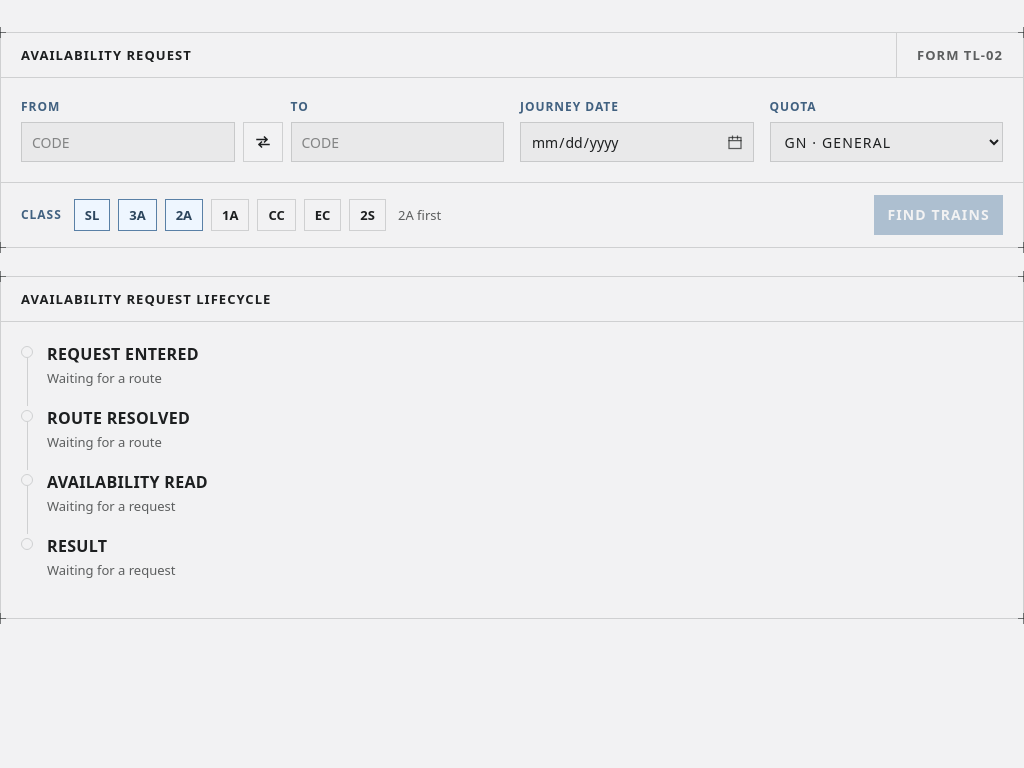
searching a route › swaps the two stations, so a return journey is not retyped
The image size is (1024, 768).
Type "SBC" into the dropdown labelled "From" at [128, 142], box left=21, top=122, right=234, bottom=162
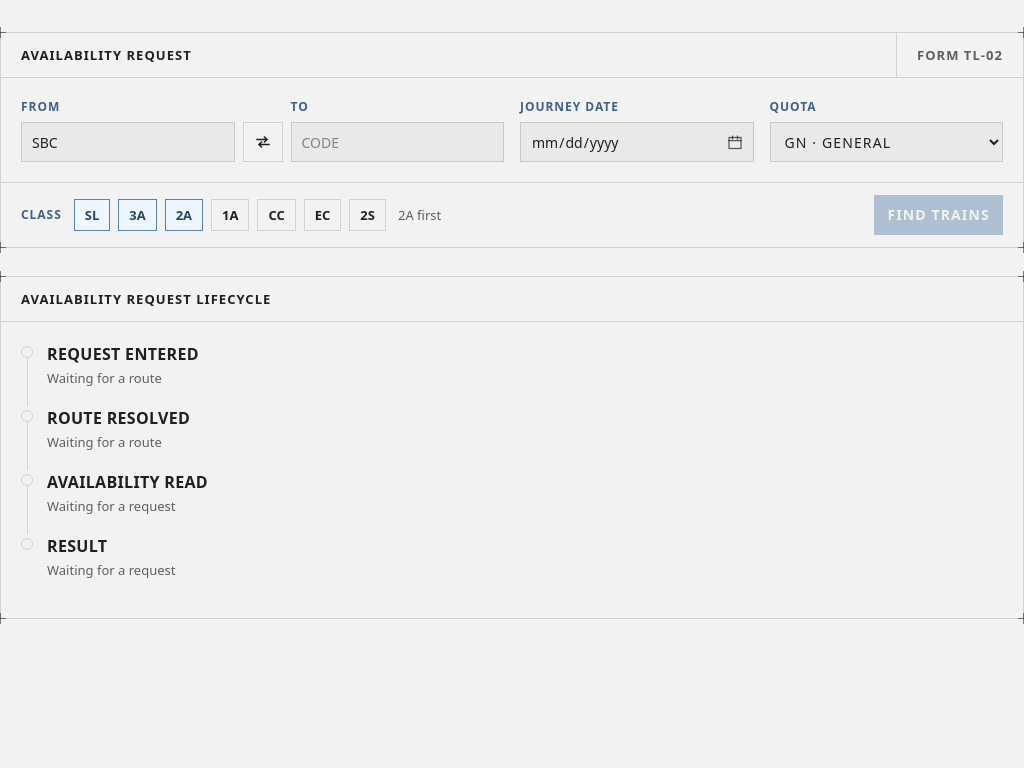
Type "NDLS" into the dropdown labelled "To" at [397, 142], box left=290, top=122, right=504, bottom=162
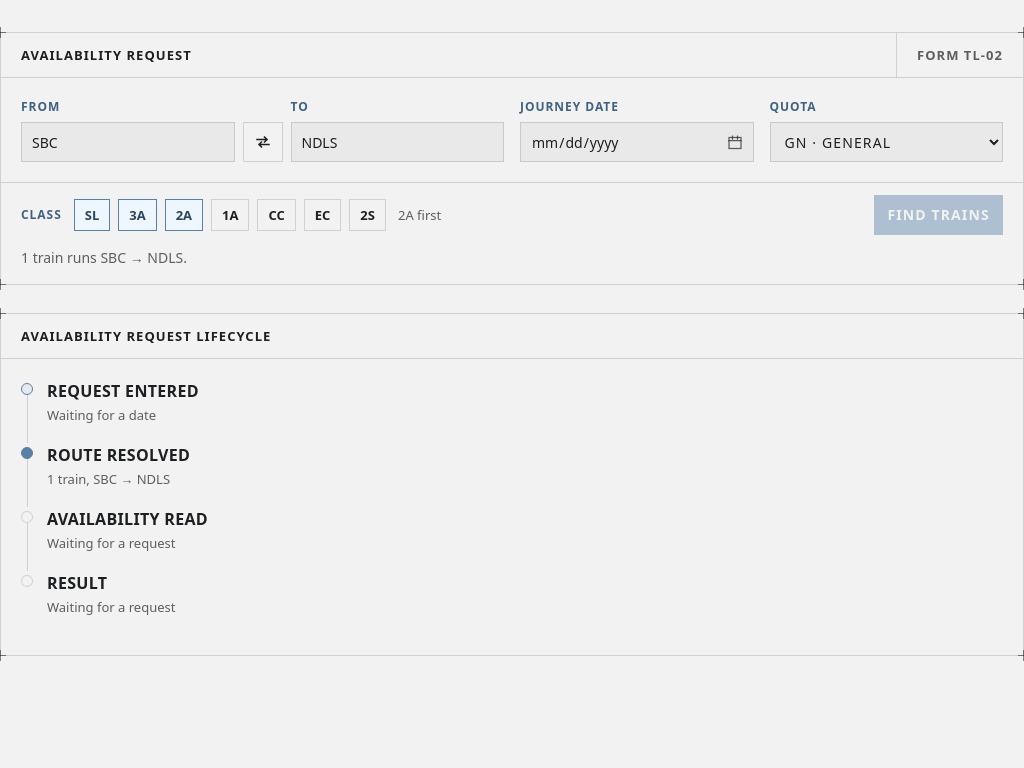
Check: the text "1 train runs SBC → NDLS." is shown, box left=21, top=248, right=187, bottom=267
Click the button named "Swap stations" at [262, 142], box left=242, top=122, right=282, bottom=162
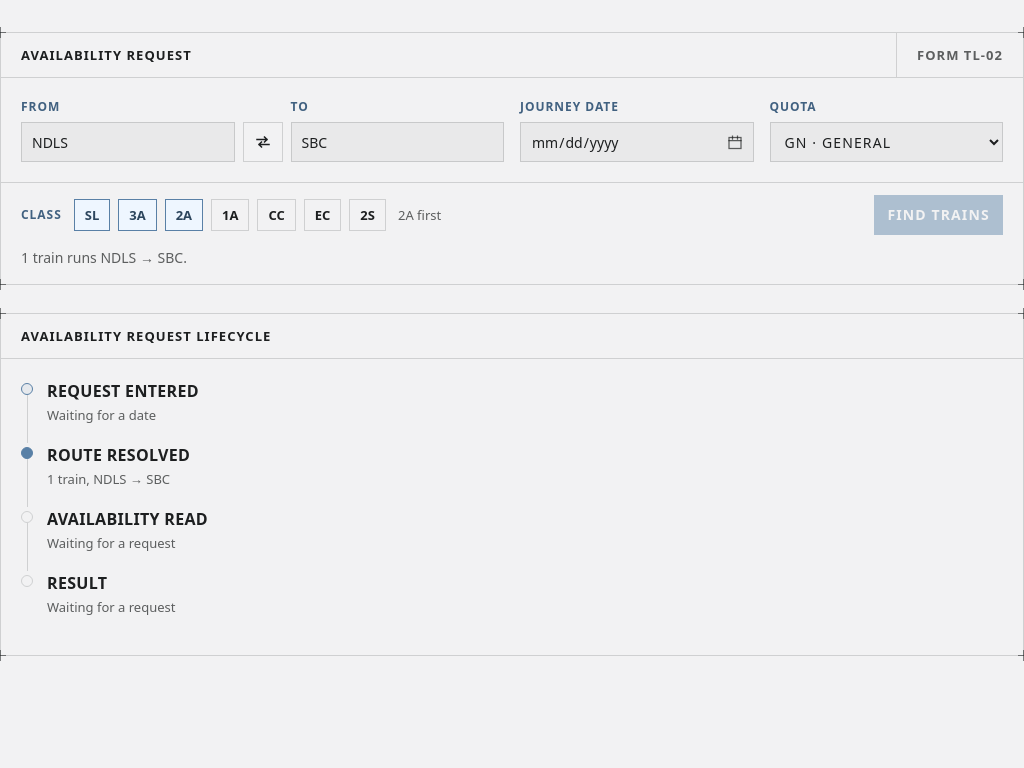
Check: the dropdown labelled "From" holds "NDLS", box left=21, top=122, right=234, bottom=162
Check: the dropdown labelled "To" holds "SBC", box left=290, top=122, right=504, bottom=162
